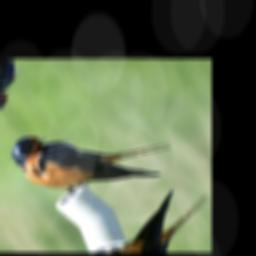Swallow: (1, 82, 184, 225)
